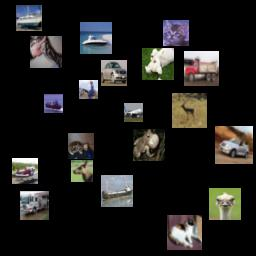airplane: (12, 158, 38, 184), (124, 103, 143, 122)
automobile: (215, 126, 253, 164), (101, 60, 127, 86)
bird: (209, 188, 241, 220)
cat: (167, 215, 202, 250), (30, 36, 62, 68), (68, 133, 94, 159), (163, 20, 189, 46)
deer: (172, 93, 207, 128), (71, 160, 93, 182)
dog: (142, 48, 174, 80)
frog: (133, 129, 165, 161)
ship: (101, 175, 133, 207), (80, 22, 112, 54), (16, 5, 42, 31), (44, 94, 63, 113)
truck: (184, 51, 219, 86), (20, 191, 49, 220)
